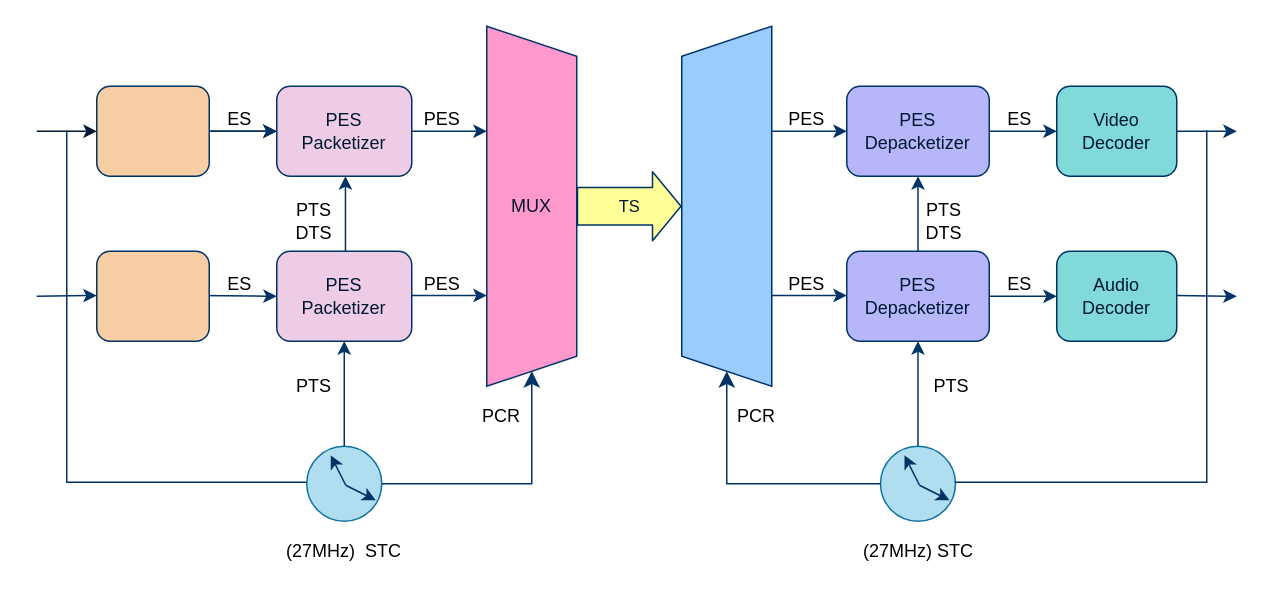
This 1275x593 diagram has some shape labels left out. The centre of each missing label's shape, as x and y in pixels:
"Audio Encoder" belongs at (x=152, y=295).
"DEMUX" belongs at (x=726, y=205).
"Video Encoder" belongs at (x=152, y=130).
